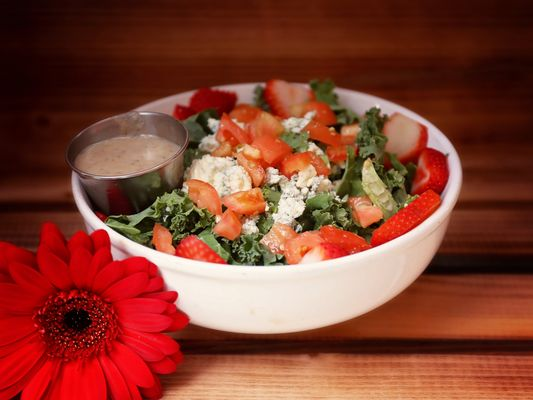sushi: (65, 73, 465, 337)
